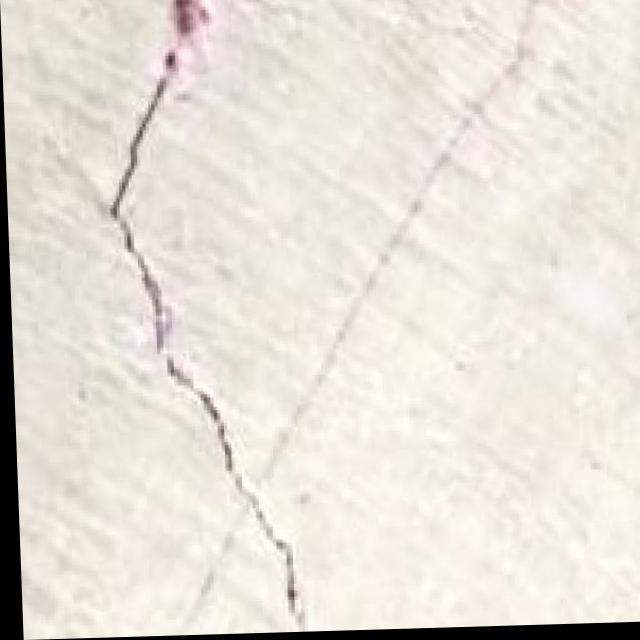Crack: (90, 0, 325, 638)
